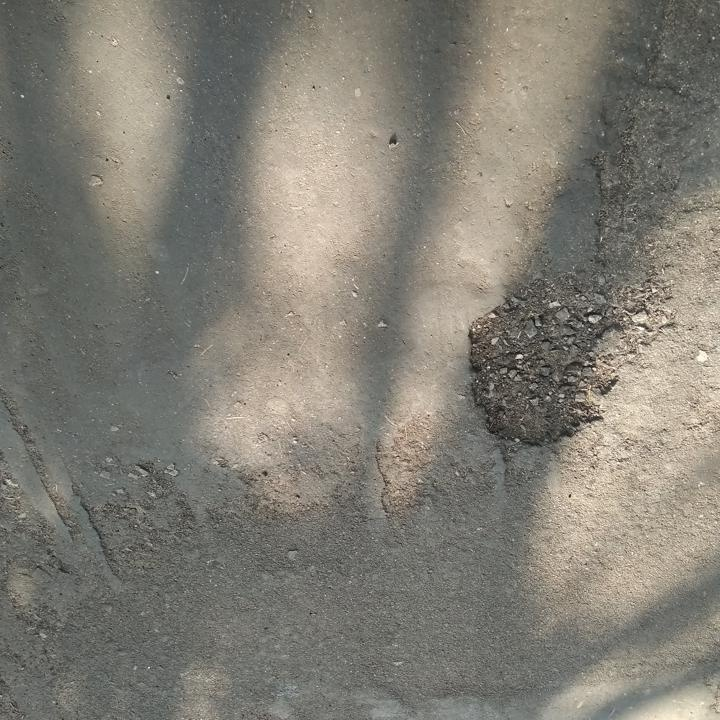pothole: (457, 283, 640, 453)
